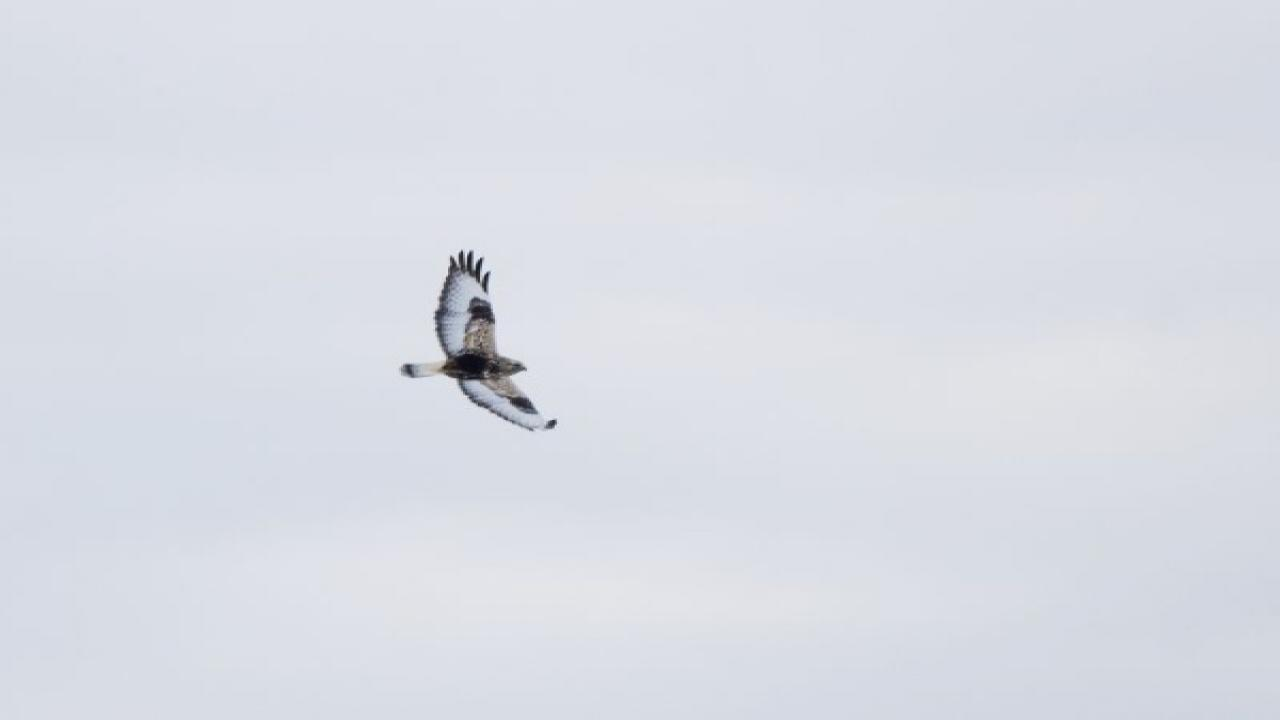Bird: (394, 242, 571, 439)
